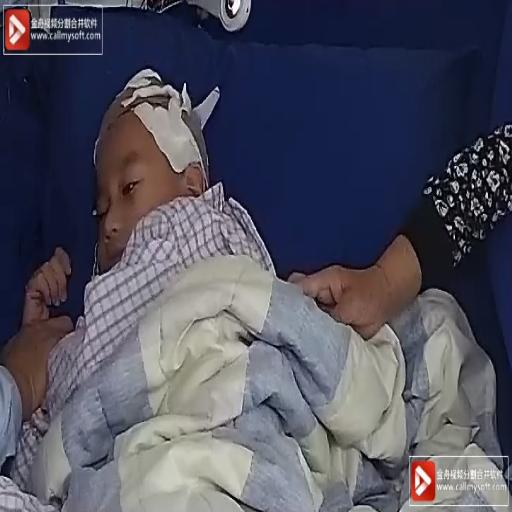Seizure: (98, 93, 215, 263)
